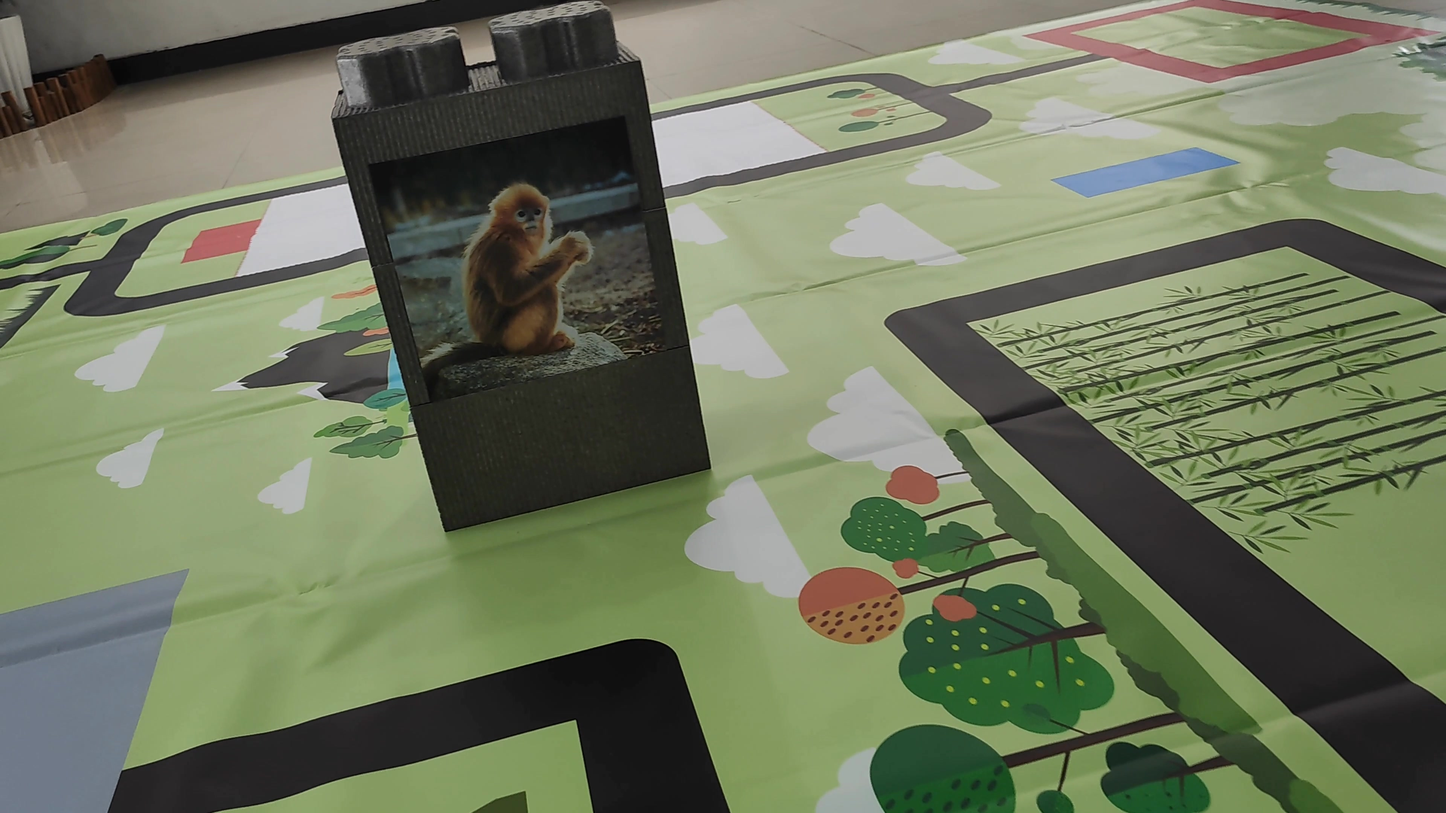monkey: (401, 174, 622, 389)
